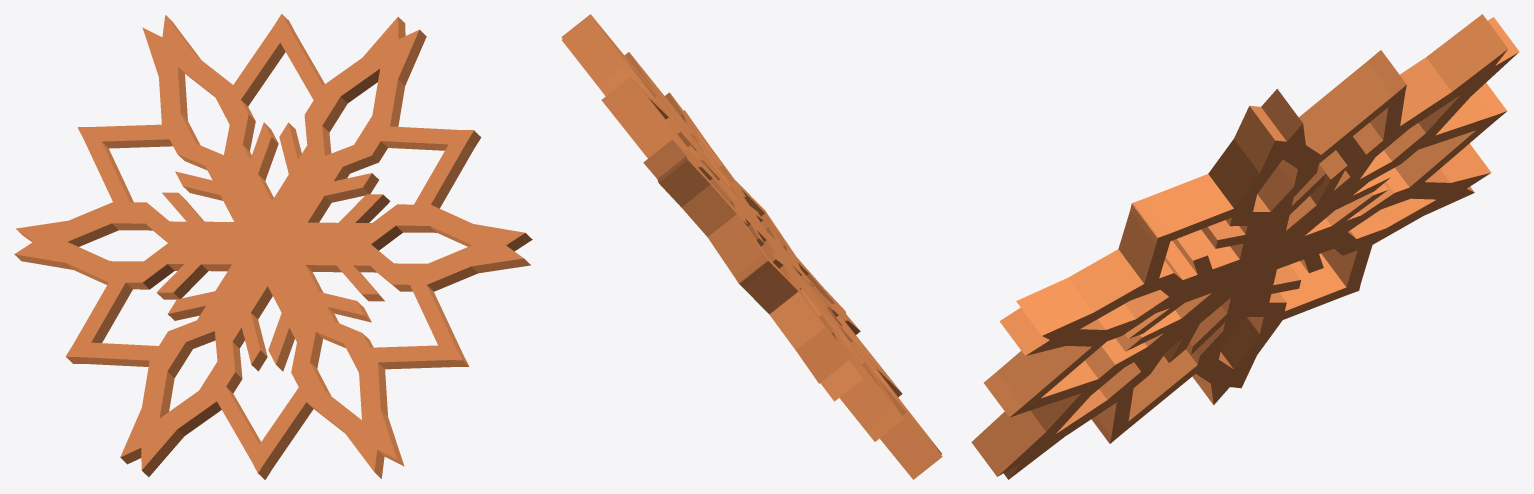
The model's file is snowflake.glb.
3 views of the same model, side by side, from view 1: azimuth 30°, elevation 25°; view 2: azimuth 150°, elevation 25°; view 3: azimuth 270°, elevation 25° (orthographic). The views are drawn at different scales.
Parts seen in each view (by area): view 1: Plane.001; view 2: Plane.001; view 3: Plane.001.
Part boxes in pixels (left/top/right/bottom): Plane.001: left=14, top=14, right=532, bottom=479; Plane.001: left=561, top=14, right=942, bottom=479; Plane.001: left=971, top=14, right=1519, bottom=479.
Size of the model in its own units: 1.16 by 1.15 by 1.17.
